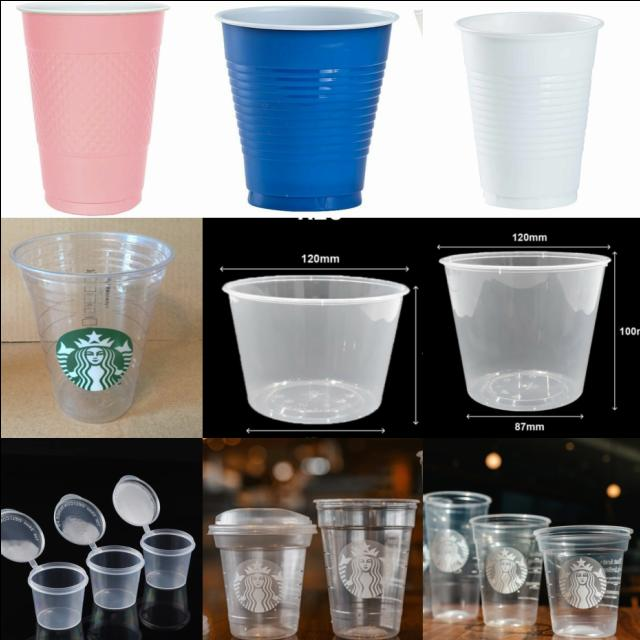plastik: (215, 6, 397, 210), (16, 0, 167, 214), (9, 231, 174, 421), (455, 11, 602, 207), (221, 274, 409, 424), (439, 251, 610, 411), (313, 497, 418, 639), (207, 508, 316, 638), (532, 522, 634, 640), (0, 508, 87, 628), (54, 493, 143, 608), (421, 486, 491, 623), (112, 474, 194, 588), (469, 510, 546, 629)
